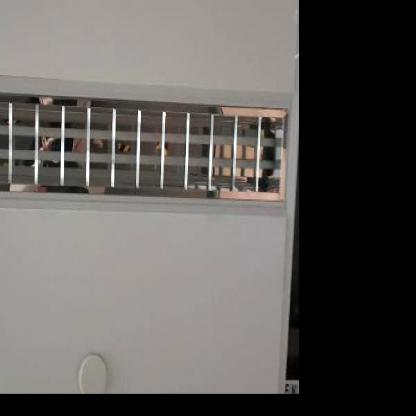light_off: (0, 65, 294, 212)
